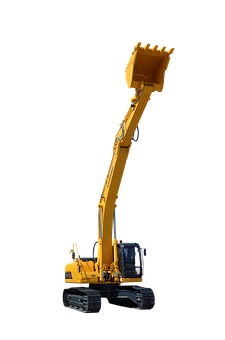excavator: (60, 41, 186, 318)
